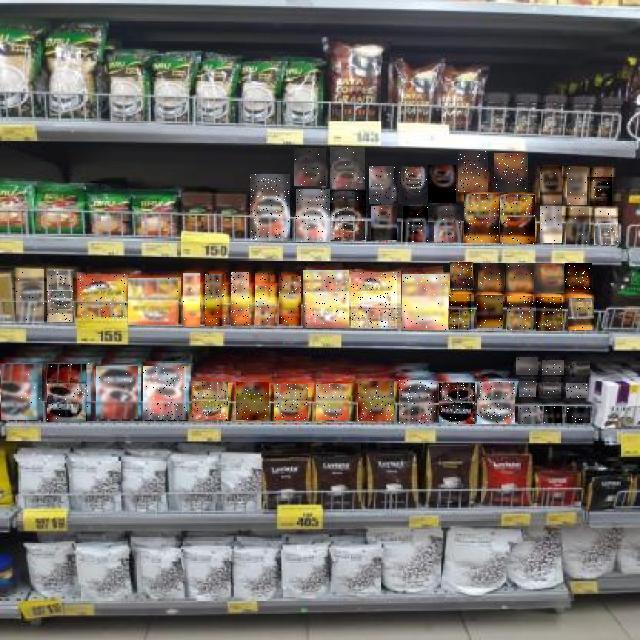Coffee: (352, 272, 400, 328), (303, 270, 349, 328), (250, 174, 290, 240), (403, 275, 449, 331), (48, 363, 90, 422), (144, 366, 188, 420), (128, 278, 178, 325), (78, 275, 127, 321), (2, 365, 42, 421), (96, 366, 138, 419), (331, 189, 367, 240), (296, 189, 330, 242), (500, 194, 535, 244), (464, 194, 499, 243), (477, 382, 515, 424), (400, 381, 436, 425), (16, 269, 44, 323), (439, 382, 475, 424), (330, 147, 365, 190), (358, 381, 394, 421), (192, 383, 228, 421), (47, 270, 73, 322), (494, 153, 528, 192), (236, 382, 269, 420), (458, 151, 488, 192), (274, 385, 308, 421), (294, 148, 326, 186), (316, 385, 349, 421), (398, 167, 427, 205), (429, 165, 457, 203), (279, 276, 301, 324), (206, 274, 226, 326), (370, 167, 396, 205), (434, 206, 461, 242), (231, 272, 249, 326), (256, 273, 274, 325), (183, 273, 200, 327), (403, 206, 428, 242), (371, 206, 397, 240), (477, 296, 503, 330), (507, 296, 533, 330), (536, 297, 562, 331), (534, 264, 564, 293), (594, 209, 618, 245), (450, 295, 474, 331), (590, 168, 612, 206), (540, 167, 562, 205), (569, 298, 595, 330), (566, 208, 589, 244), (540, 206, 562, 243), (506, 263, 534, 292), (567, 167, 587, 205), (565, 264, 592, 292), (478, 263, 504, 291), (450, 262, 473, 290), (516, 357, 538, 375), (518, 407, 540, 425), (539, 382, 561, 398), (566, 384, 588, 400), (567, 408, 590, 423), (542, 360, 564, 375), (570, 361, 590, 377), (544, 406, 562, 423), (519, 381, 536, 397)
